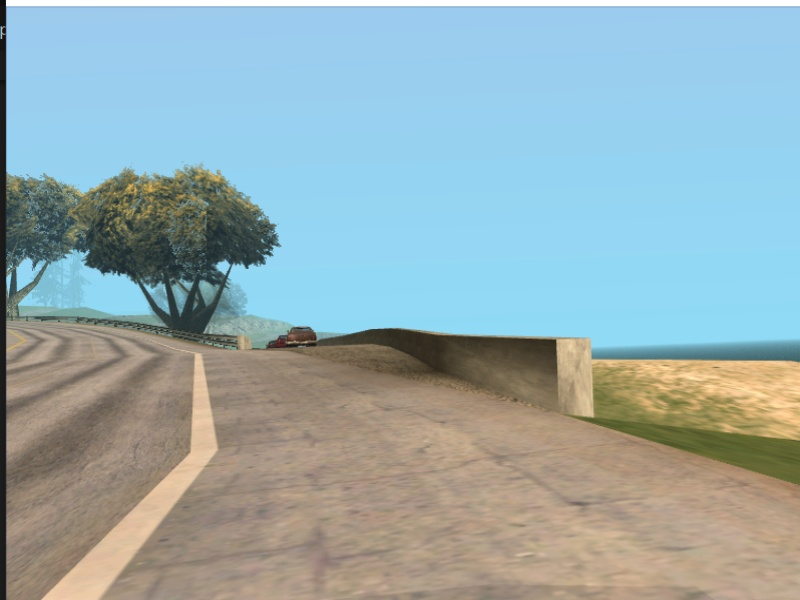vehicle: (285, 326, 319, 350)
